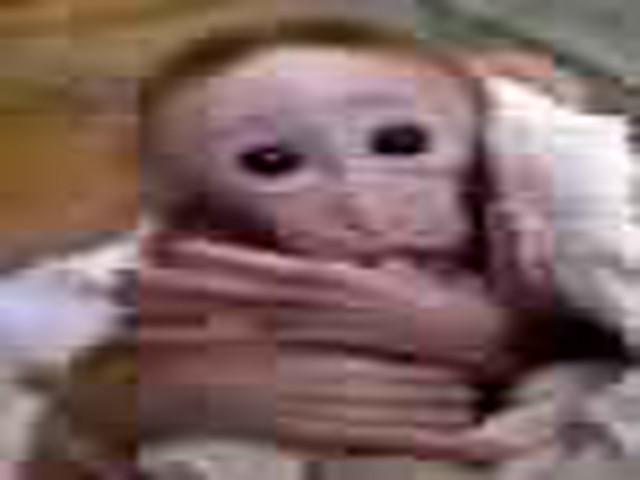Monkey: (131, 18, 570, 465)
